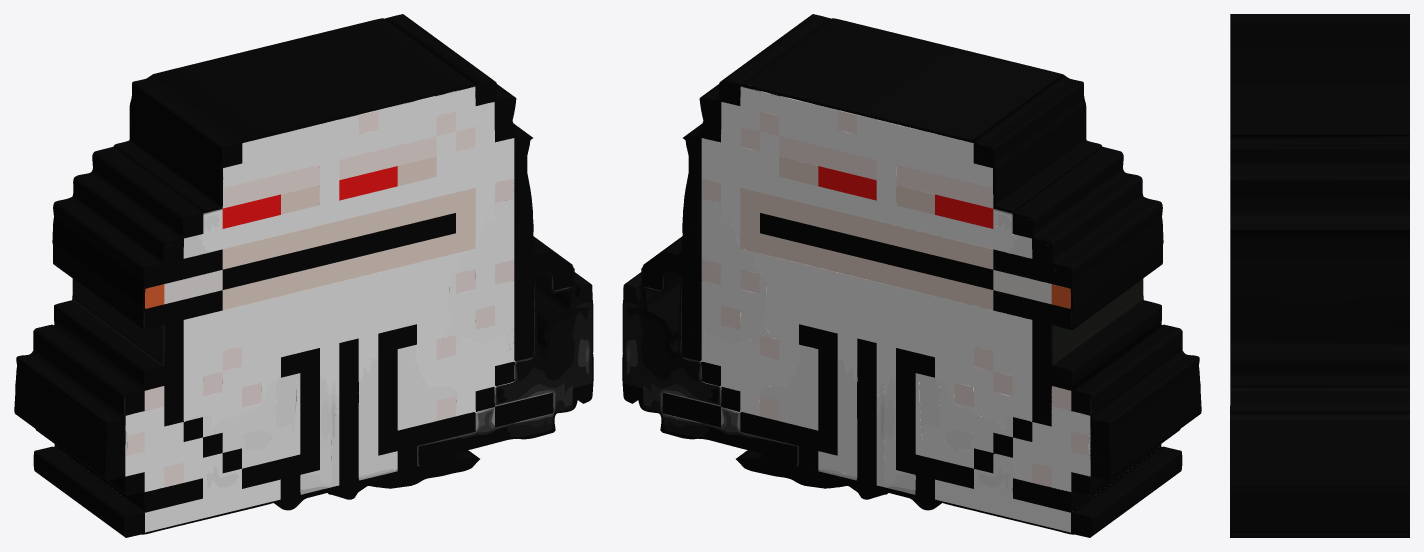
File: Toadz_609.glb
3 renders of one model, left to right at view 1: azimuth 30°, elevation 25°; view 2: azimuth 150°, elevation 25°; view 3: azimuth 270°, elevation 25°, orthographic.
Visible parts, largest first — view 1: Curve; view 2: Curve; view 3: Curve.
Part boxes in pixels (bbox=[...]): Curve: bbox=[14, 14, 593, 537]; Curve: bbox=[622, 14, 1201, 537]; Curve: bbox=[1230, 14, 1409, 537].
Bounding box in the file's own units: 3.13 × 2.36 × 1.
